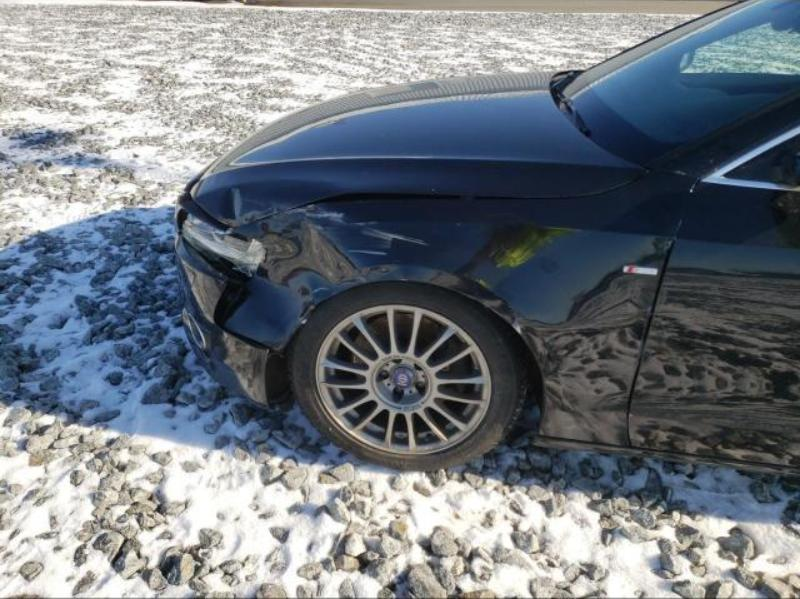Fender: (244, 162, 700, 449)
Front-bumper: (175, 232, 314, 409)
Front-door: (629, 93, 799, 463)
Front-wheel: (286, 280, 537, 471)
Front-window: (712, 127, 799, 191)
Headlight: (178, 207, 265, 274)
Hood: (181, 68, 659, 227)
Rocker-panel: (522, 433, 787, 471)
Windshield: (555, 0, 800, 170)
